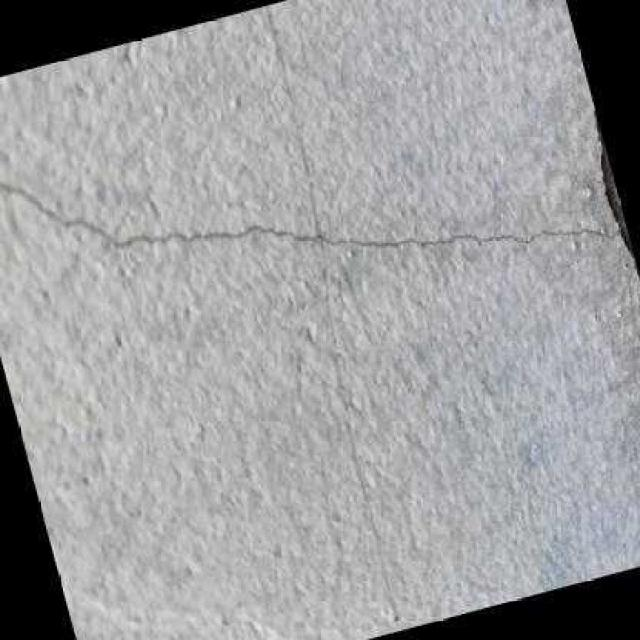D00: (577, 44, 640, 283)
